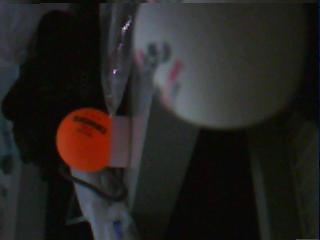oball: (56, 107, 110, 173)
